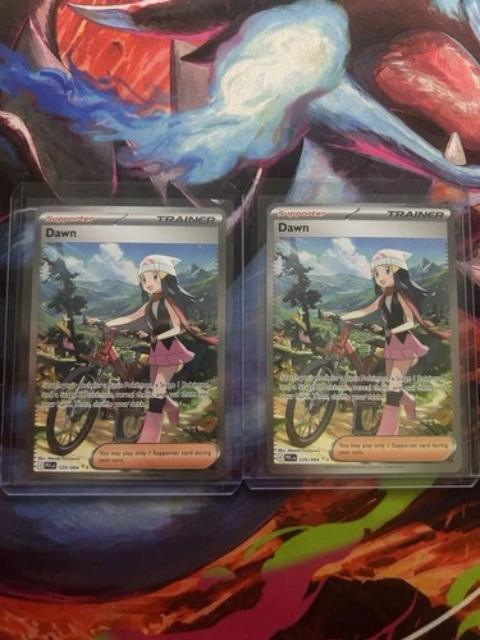Card: (21, 202, 234, 481), (262, 200, 466, 477)
Name: (273, 218, 351, 237), (40, 221, 78, 239)
